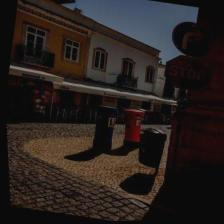Stop: (160, 53, 213, 95)
